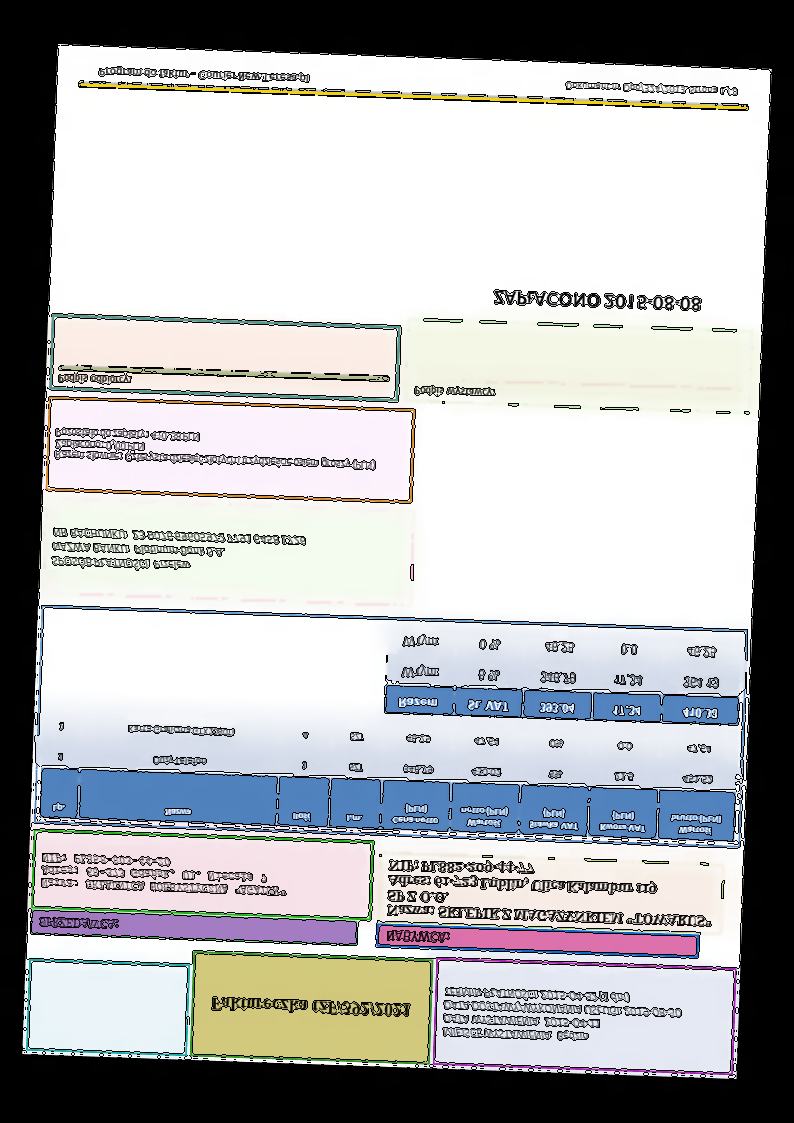Table: (39, 704, 739, 844), (384, 622, 742, 727)
TextBox: (385, 857, 715, 929), (54, 426, 378, 473), (441, 984, 684, 1046), (49, 526, 308, 578), (39, 851, 288, 899), (209, 995, 411, 1020), (492, 289, 702, 313), (96, 63, 311, 86), (564, 78, 740, 99), (412, 382, 496, 401), (37, 914, 122, 932), (56, 371, 133, 388), (385, 928, 451, 946)
